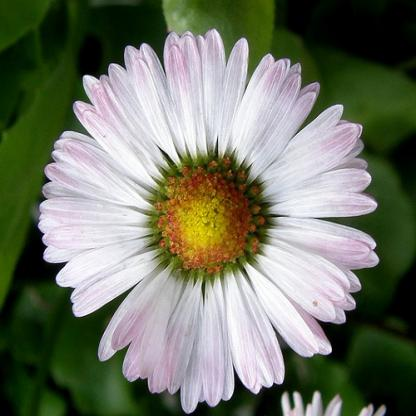ASTER: (20, 21, 402, 408)
